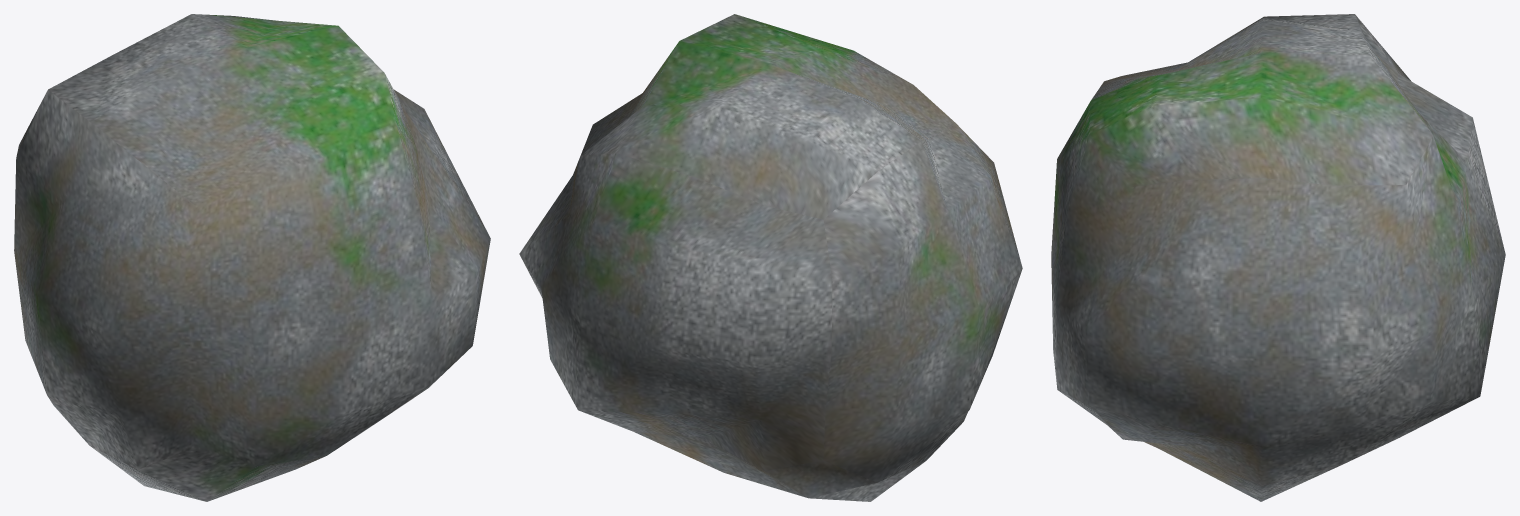
File: Stone_Forest_1_LOD2.obj
3 renders of one model, left to right at view 1: azimuth 30°, elevation 25°; view 2: azimuth 150°, elevation 25°; view 3: azimuth 270°, elevation 25°, orthographic. The views are drawn at different scales.
Visible parts, largest first — view 1: Stone_F_1_LOD2; view 2: Stone_F_1_LOD2; view 3: Stone_F_1_LOD2.
Part boxes in pixels (left/top/right/bottom): Stone_F_1_LOD2: left=14, top=14, right=490, bottom=501; Stone_F_1_LOD2: left=519, top=14, right=1022, bottom=501; Stone_F_1_LOD2: left=1051, top=14, right=1505, bottom=501.
Size of the model in its own units: 195 by 190 by 183.
1 material, 1 textured.
